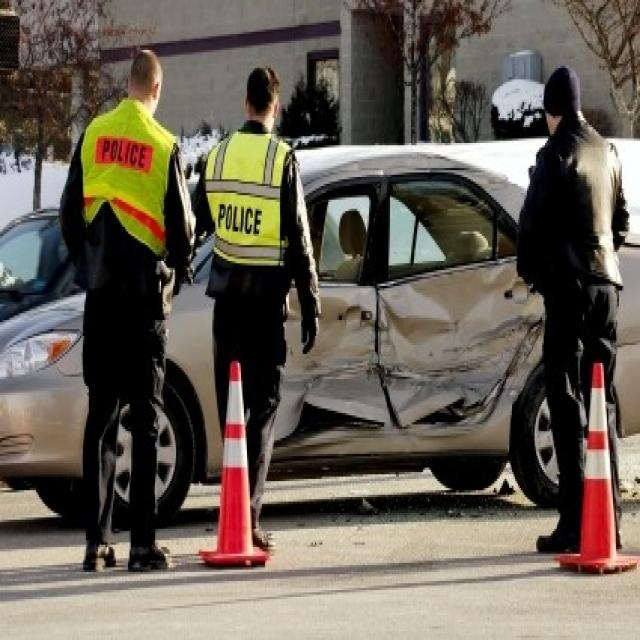crush: (271, 258, 546, 460)
